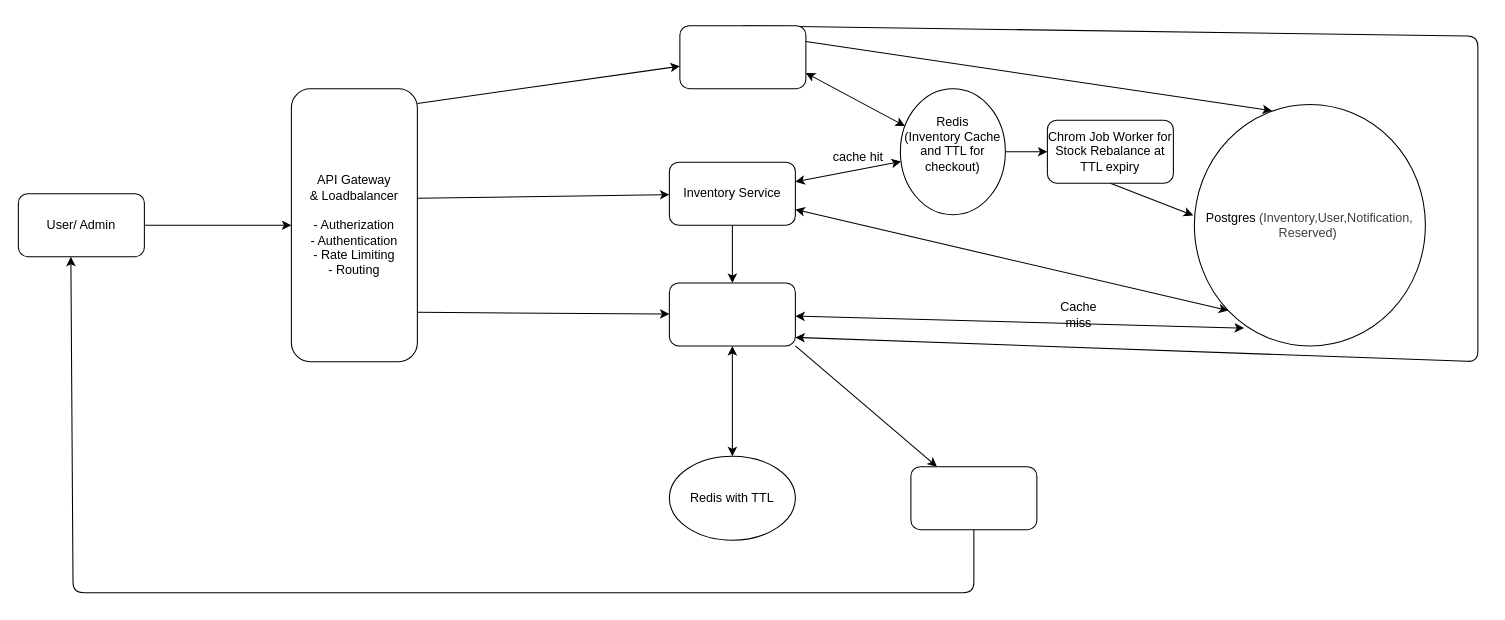
This 1505x620 diagram has some shape labels left out. Each missing label, with the centre of its shape:
"Checkout Service" goes at pixel 742 57.
"Fanout Service" goes at pixel 973 498.
"Notification Service" goes at pixel 731 314.
